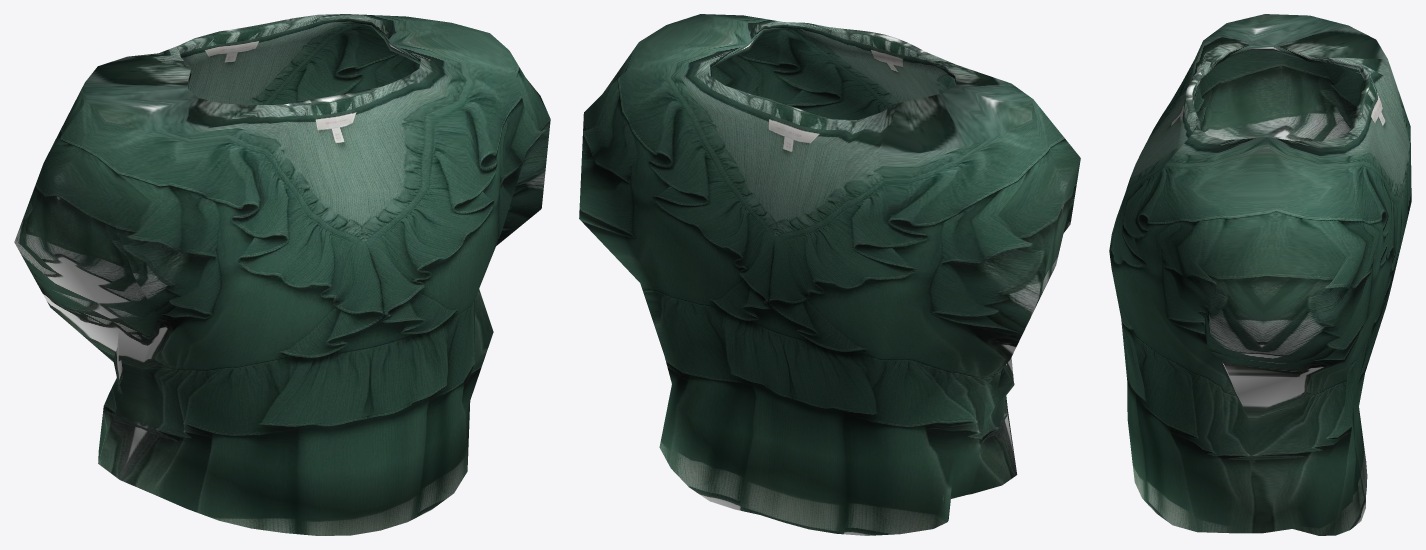
Rendered from e5a7a554-1a92-4801-acc5-5a36acf141dd.glb.
The picture shows the model from 3 angles, left to right: view 1: azimuth 30°, elevation 25°; view 2: azimuth 150°, elevation 25°; view 3: azimuth 270°, elevation 25°; orthographic projection. The views are drawn at different scales.
Parts seen in each view (by area): view 1: garment; view 2: garment; view 3: garment.
Part boxes in pixels (bbox=[...]): garment: bbox=[14, 14, 550, 535]; garment: bbox=[579, 14, 1080, 535]; garment: bbox=[1109, 14, 1411, 535].
Size of the model in its own units: 0.5483 by 0.4613 by 0.3221.
Materials: 1 (1 with a texture image).
